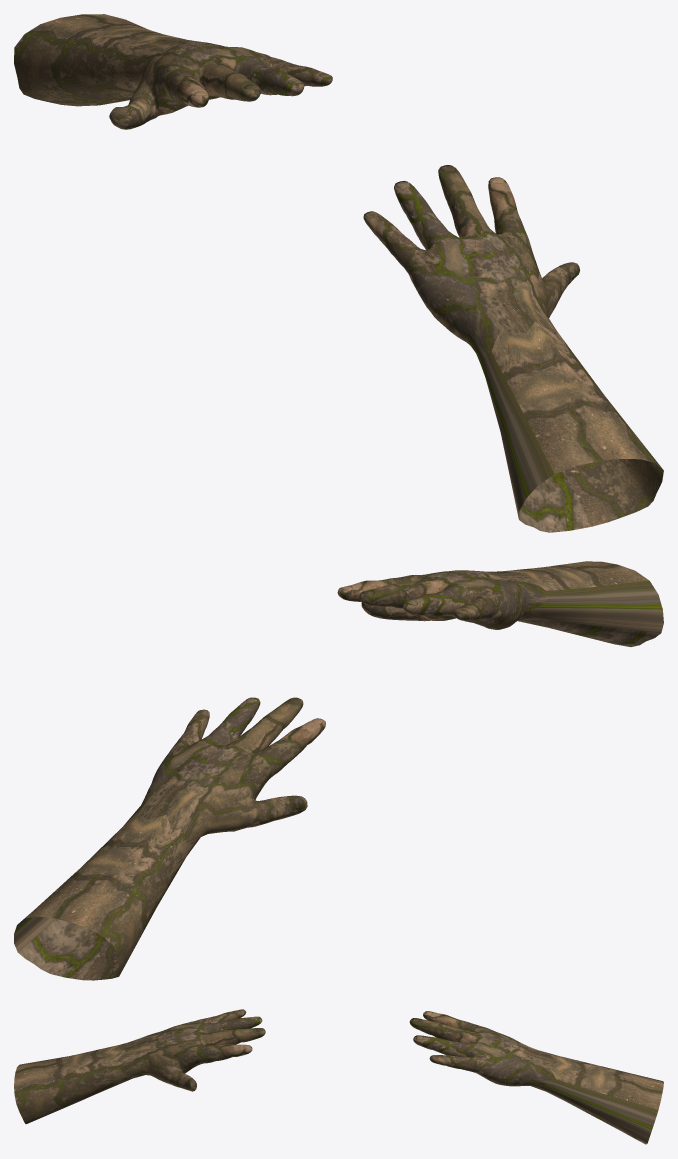
Rendered from hands_000015.obj.
The picture shows the model from 3 angles, top to bottom: view 1: azimuth 30°, elevation 25°; view 2: azimuth 150°, elevation 25°; view 3: azimuth 270°, elevation 25°; orthographic projection. The views are drawn at different scales.
Parts seen in each view (by area): view 1: hand.001_Mesh.001, hand_Mesh; view 2: hand_Mesh, hand.001_Mesh.001; view 3: hand_Mesh, hand.001_Mesh.001.
Part boxes in pixels (x1=…): hand.001_Mesh.001: x1=363, y1=165, x2=663, y2=532; hand_Mesh: x1=14, y1=14, x2=332, y2=129; hand_Mesh: x1=14, y1=697, x2=325, y2=980; hand.001_Mesh.001: x1=337, y1=561, x2=663, y2=646; hand_Mesh: x1=409, y1=1011, x2=663, y2=1144; hand.001_Mesh.001: x1=14, y1=1009, x2=265, y2=1123.
Bounding box in the file's own units: 1.58 × 1.44 × 7.8.
Materials: 1 (1 with a texture image).
